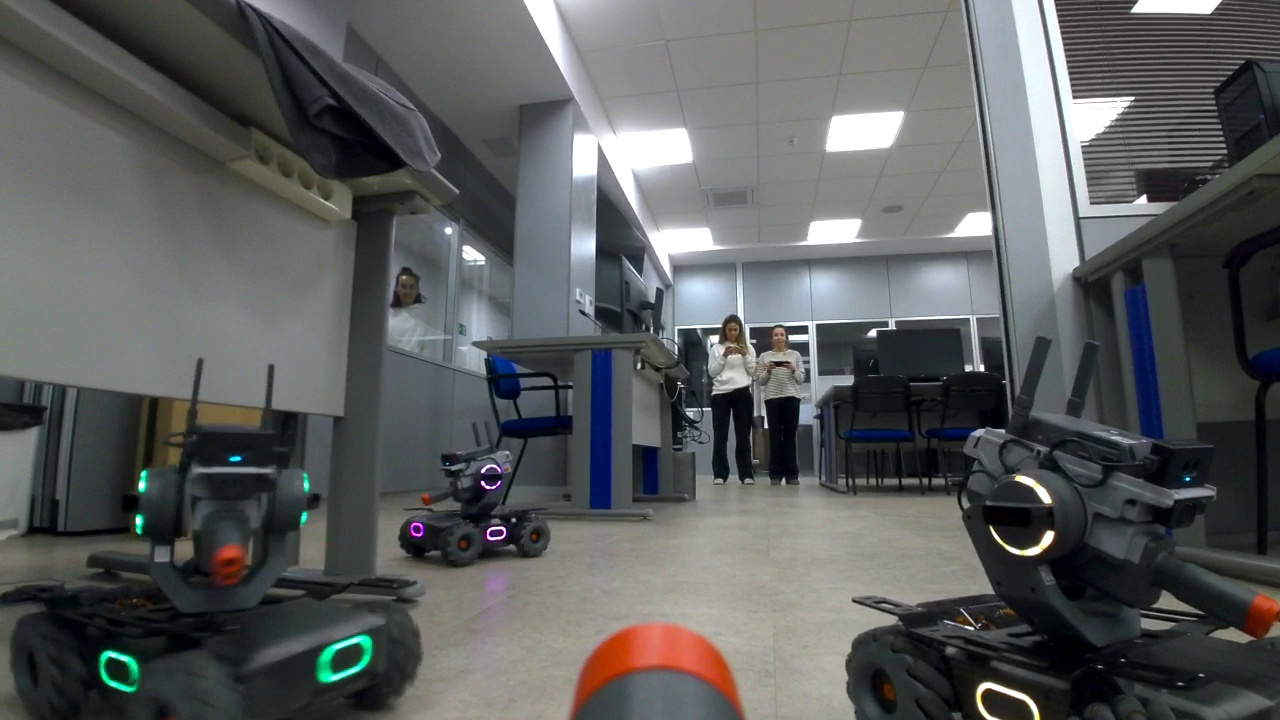robot: (847, 414, 1278, 717), (9, 426, 412, 716), (398, 443, 551, 569)
